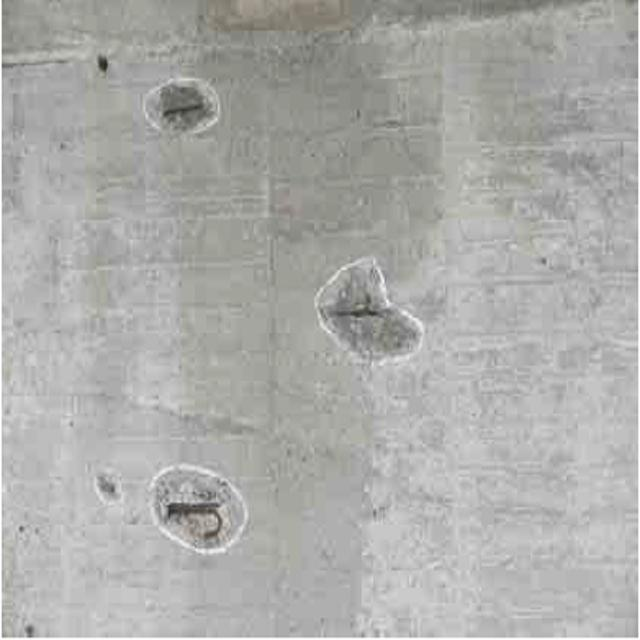spalling: (300, 251, 444, 376), (138, 452, 253, 554), (126, 58, 234, 146)
